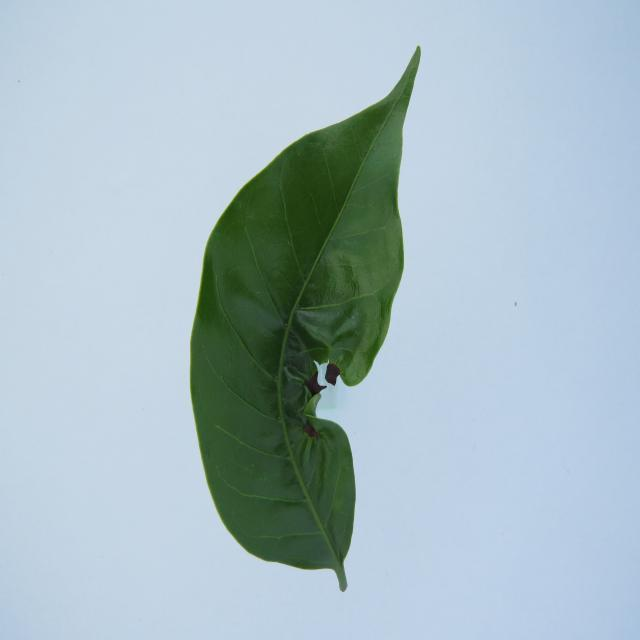DeficienciaNutricional-Calcio: (191, 47, 420, 590)
